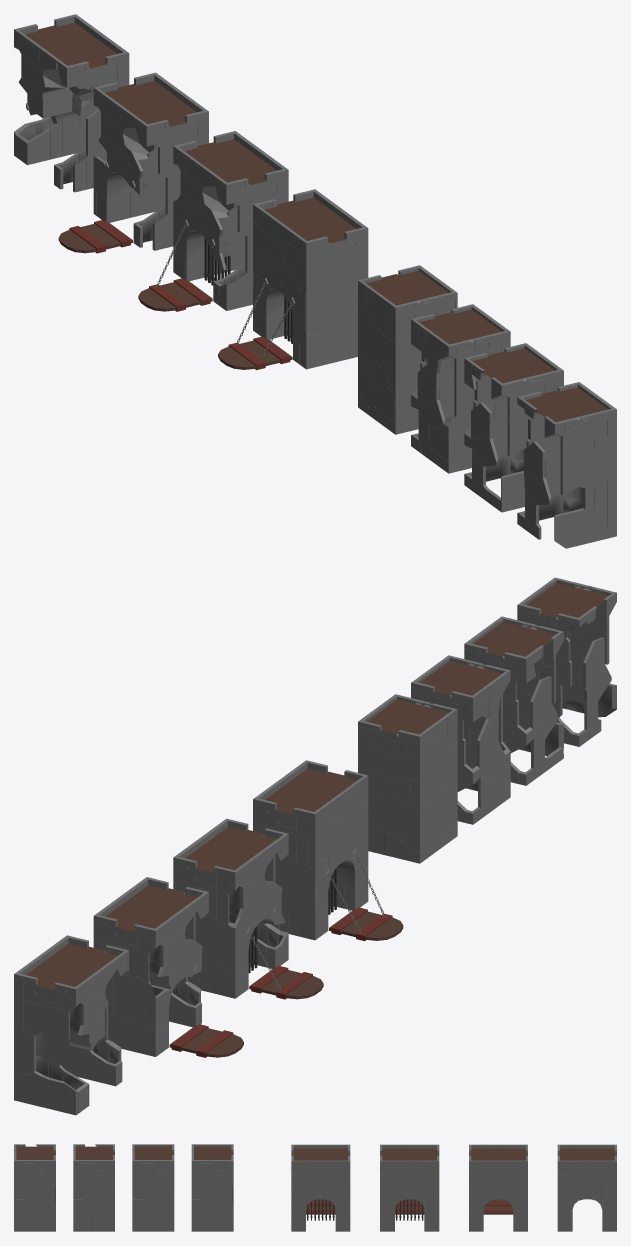
The model's file is zamokdd2.fbx.
3 renders of one model, top to bottom at view 1: azimuth 30°, elevation 25°; view 2: azimuth 150°, elevation 25°; view 3: azimuth 270°, elevation 25°, orthographic. The views are drawn at different scales.
Visible parts, largest first — view 1: Cube.014, Cube.016, Cube.021, Cube.005, Cube.007, Cube.008, Cube.006, Cube.004, Cube.011_cell.261, Cube.011_cell.370, Cube.019, Cube.010 (+15 smaller); view 2: Cube.016, Cube.005, Cube.014, Cube.021, Cube.008, Cube.007, Cube.004, Cube.006, Cube.011_cell.319, Cube.011_cell.316, Cube.011_cell.104, Cube.011_cell.485 (+16 smaller); view 3: Cube.014, Cube.021, Cube.005, Cube.016, Cube.006, Cube.008, Cube.004, Cube.007, Cube.011_cell.092, Cube.011_cell.304, Cube.011_cell.331, Cube.011_cell.501 (+78 smaller).
Part boxes in pixels (<box>): Cube.014: <box>185,139,276,184</box>; Cube.016: <box>105,81,196,126</box>; Cube.021: <box>25,22,116,68</box>; Cube.005: <box>264,197,355,243</box>; Cube.007: <box>472,348,554,383</box>; Cube.008: <box>525,387,607,422</box>; Cube.006: <box>419,309,501,344</box>; Cube.004: <box>366,270,448,305</box>; Cube.011_cell.261: <box>202,204,239,244</box>; Cube.011_cell.370: <box>122,146,159,186</box>; Cube.019: <box>58,221,132,253</box>; Cube.010: <box>138,279,212,311</box>; Cube.016: <box>106,885,197,931</box>; Cube.005: <box>265,768,356,814</box>; Cube.014: <box>185,827,276,872</box>; Cube.021: <box>26,943,117,989</box>; Cube.008: <box>526,583,608,617</box>; Cube.007: <box>473,622,555,656</box>; Cube.004: <box>367,699,448,734</box>; Cube.006: <box>420,660,502,695</box>; Cube.011_cell.319: <box>114,974,155,1025</box>; Cube.011_cell.316: <box>195,916,235,966</box>; Cube.011_cell.104: <box>275,858,315,908</box>; Cube.011_cell.485: <box>14,1025,45,1076</box>; Cube.014: <box>380,1148,439,1160</box>; Cube.021: <box>557,1148,616,1160</box>; Cube.005: <box>291,1148,350,1160</box>; Cube.016: <box>469,1148,527,1160</box>; Cube.006: <box>134,1146,174,1159</box>; Cube.008: <box>16,1146,55,1159</box>; Cube.004: <box>194,1146,233,1159</box>; Cube.007: <box>75,1146,114,1159</box>; Cube.011_cell.092: <box>319,1160,342,1181</box>; Cube.011_cell.304: <box>408,1160,431,1181</box>; Cube.011_cell.331: <box>497,1160,519,1181</box>; Cube.011_cell.501: <box>586,1160,608,1181</box>.
Bounding box in the file's own units: 257 × 266 × 2036.
